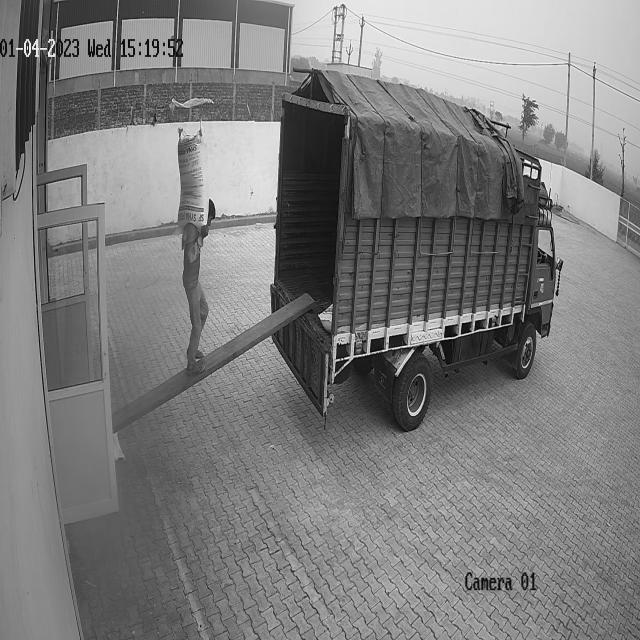sack: (177, 125, 209, 233)
